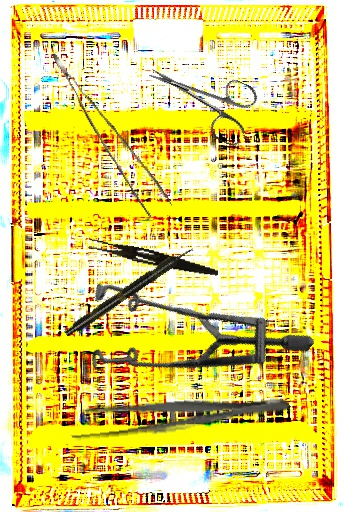Dressing Forceps: (68, 386, 292, 445), (87, 238, 220, 278)
Handpiece: (62, 243, 197, 340)
Iris Scissors: (137, 45, 263, 149)
Speculum: (56, 214, 316, 465)
Tissue Forceps: (51, 37, 173, 223)
